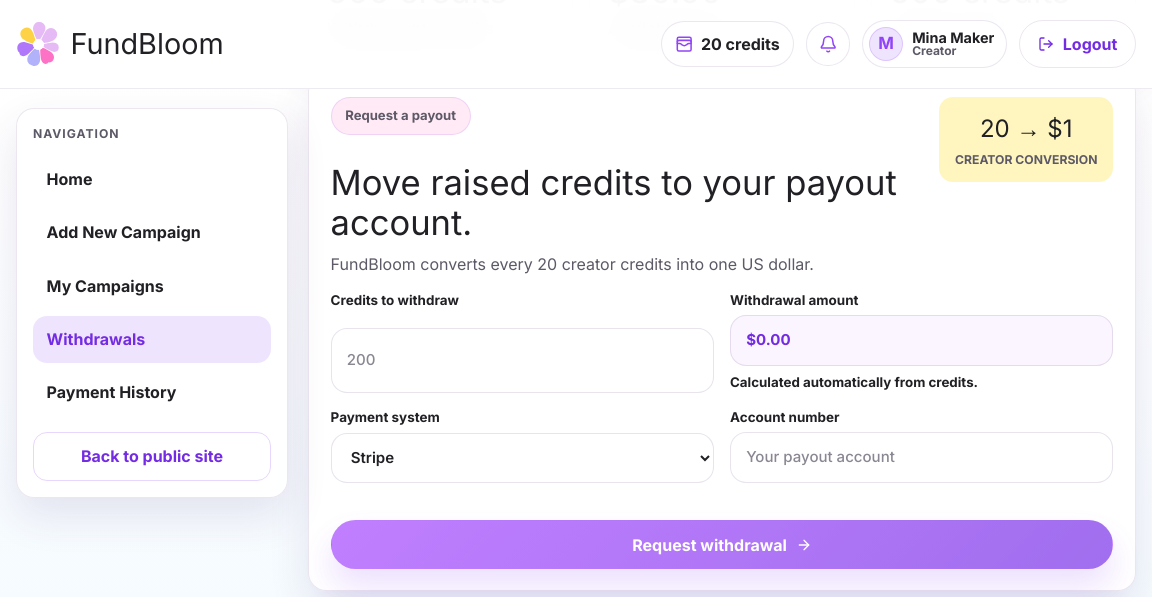
Test: creator withdrawals page › shows earnings conversion, submits a validated request, and refreshes history
(page scrolled)
Expected: the text "20 → $1" is shown, [980,114,1072,143]
Type "300" into the number field labelled "Credits to withdraw" at (522, 361), box [331,328,714,393]
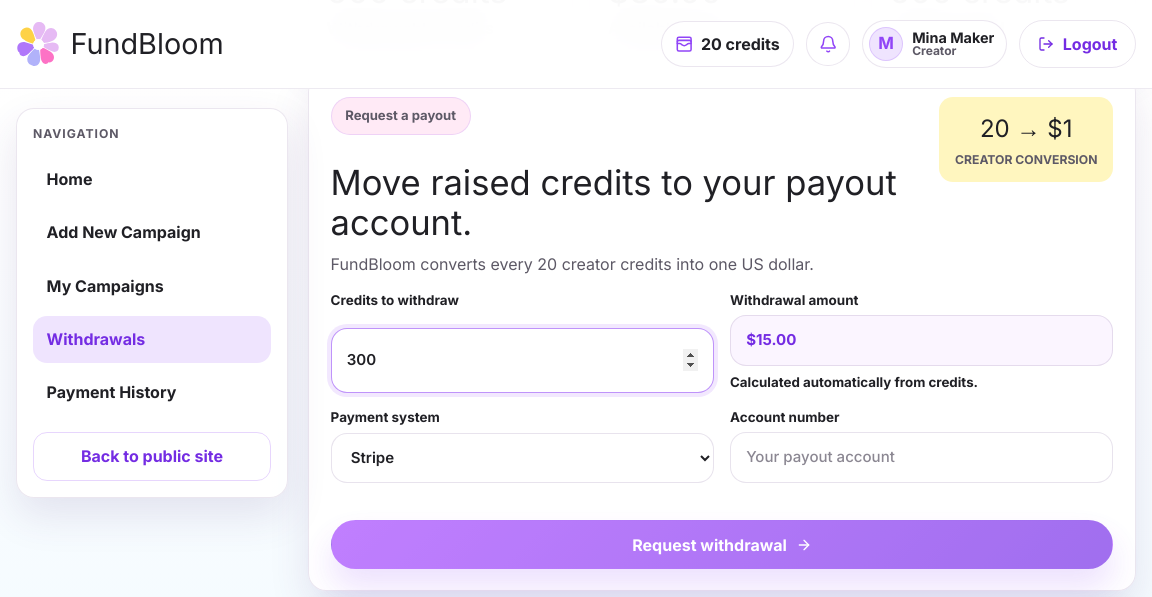
Type "US1234567890" into the field labelled "Account number" at (922, 458), box [730,432,1113,483]
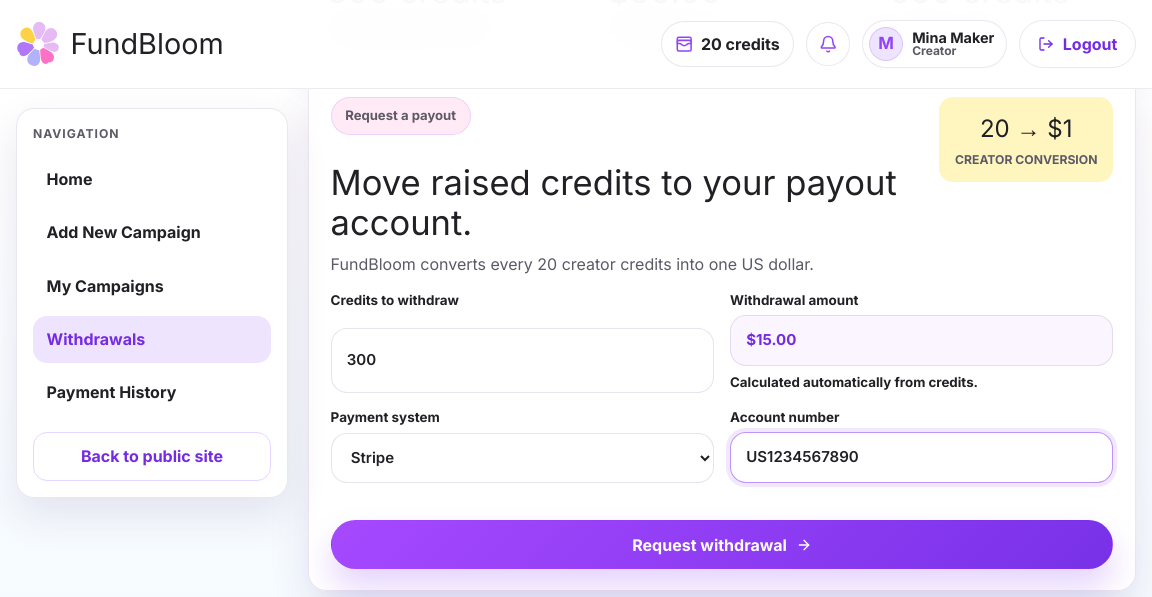
Now the field showing "$15.00" is shown, box [730,315,1113,366]
Click the button "Request withdrawal" at (722, 545), box [331,520,1113,569]
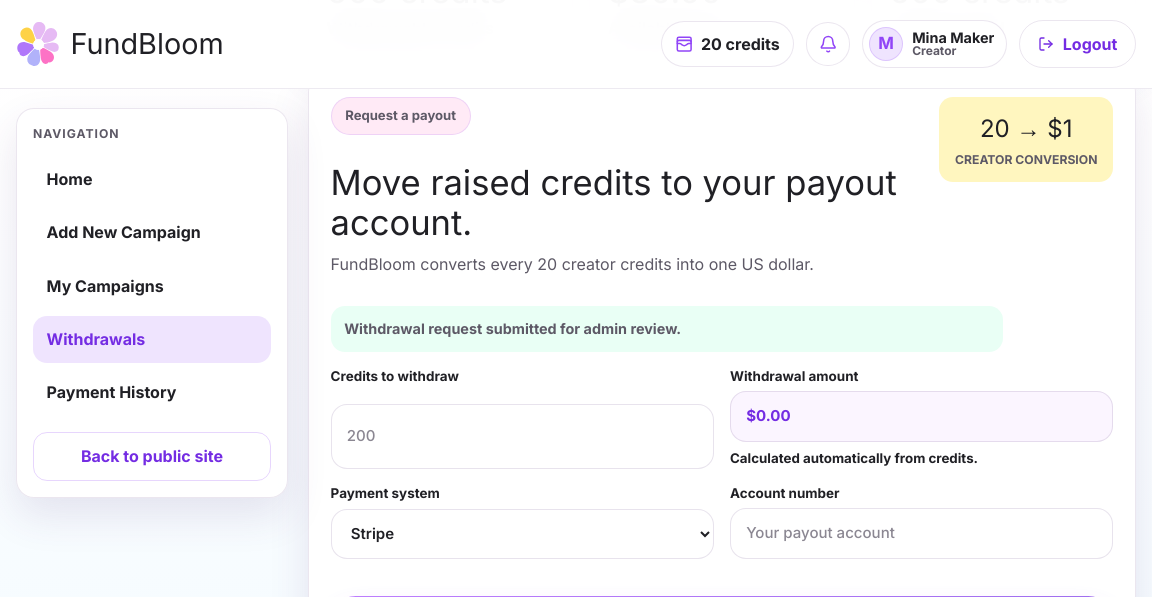
Now the text "Withdrawal request submitted for admin review." is shown, box [331,306,1003,352]
